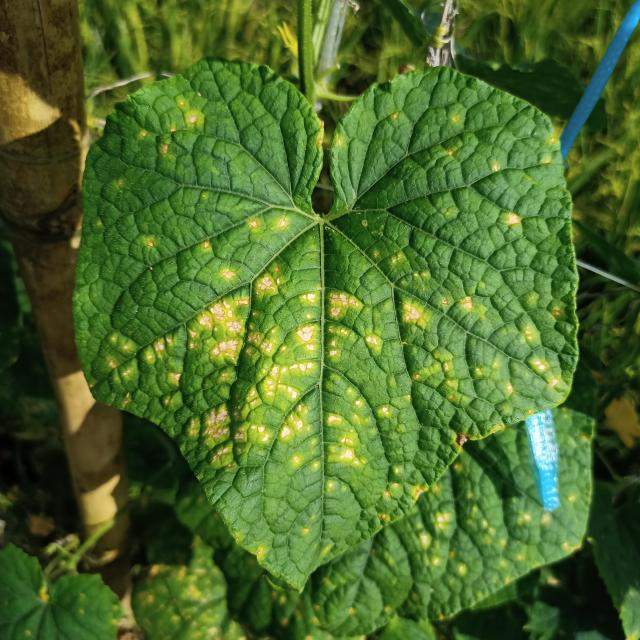disease_cucumber: (99, 86, 561, 536)
